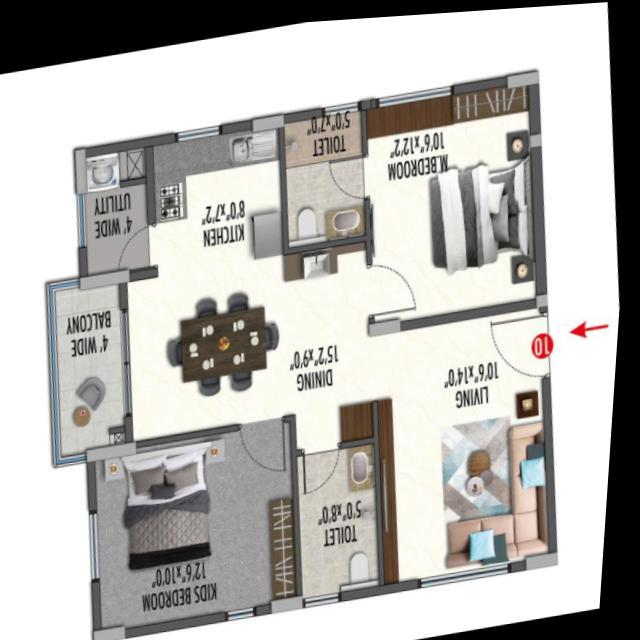Balcony-Sitout: (49, 259, 141, 460)
Bedroom: (88, 407, 314, 635)
Bedroom with Toilet: (276, 73, 548, 330)
Enterance-Foyer: (491, 294, 605, 390)
Kitchen: (145, 105, 294, 272)
Living: (374, 294, 568, 595), (167, 274, 288, 400)
Toilet: (274, 93, 372, 250), (302, 431, 389, 604)
Utility: (74, 126, 162, 285)
